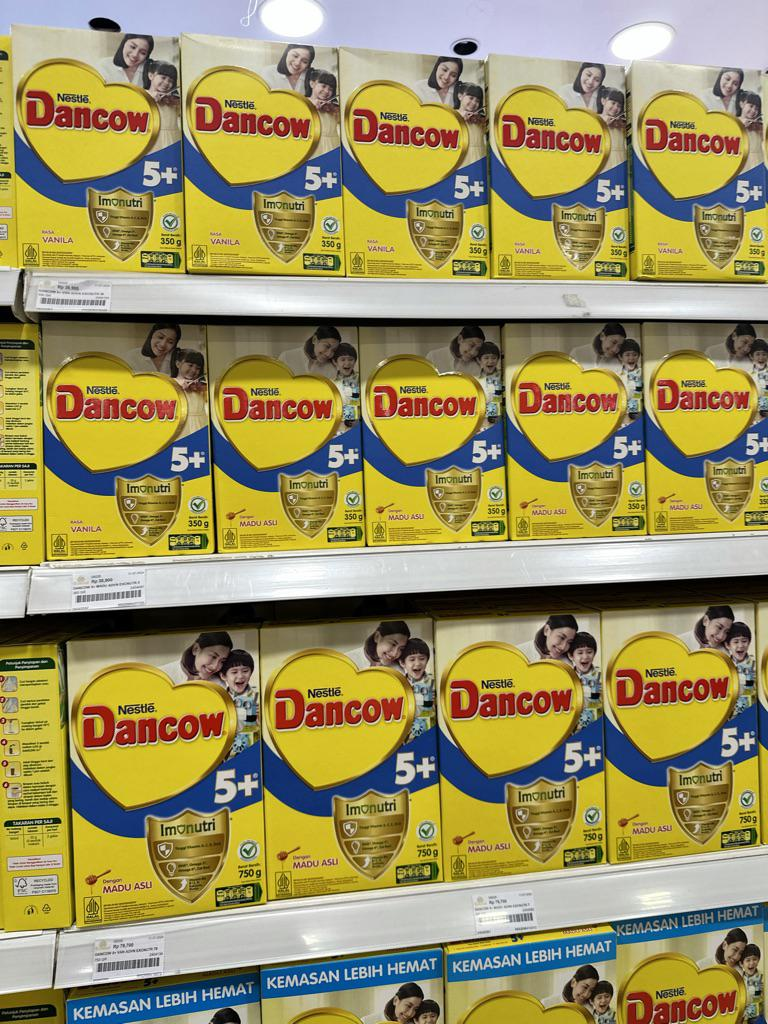DANCOW 5+ Madu Advn ExcNutr 12x800g ID_REDESIGN3: (69, 628, 266, 916), (265, 619, 441, 894), (437, 613, 607, 874), (605, 605, 758, 858)
DANCOW 5+ Madu Advn ExcNutr 24x400g ID_REDESIGN3: (43, 314, 212, 555), (212, 325, 364, 546), (364, 323, 506, 542), (507, 323, 645, 533), (646, 324, 765, 530)
